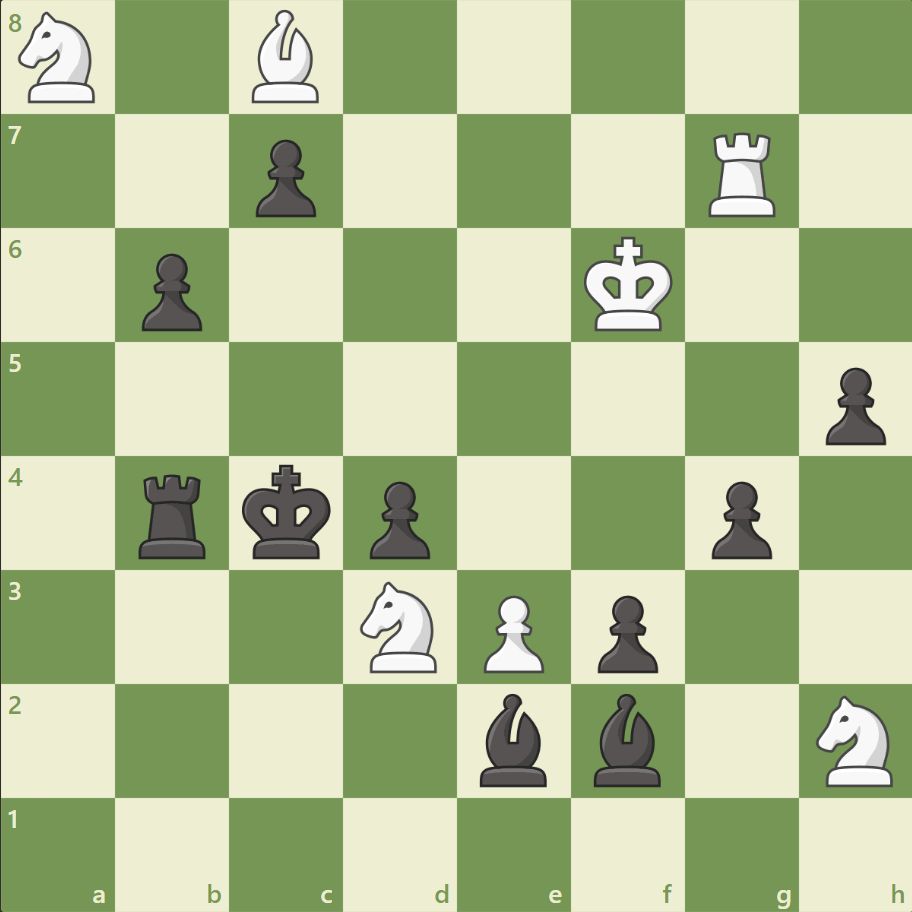B: (244, 6, 328, 109)
K: (579, 231, 679, 339)
N: (351, 575, 449, 677), (11, 7, 108, 110), (806, 688, 903, 791)
P: (474, 586, 549, 677)
R: (700, 125, 783, 222)
b: (471, 687, 555, 790), (585, 687, 669, 790)
k: (238, 458, 338, 566)
p: (247, 132, 322, 223), (133, 246, 208, 337), (701, 473, 776, 564), (815, 359, 889, 450), (361, 473, 435, 564), (588, 586, 662, 677)
r: (133, 466, 215, 563)
